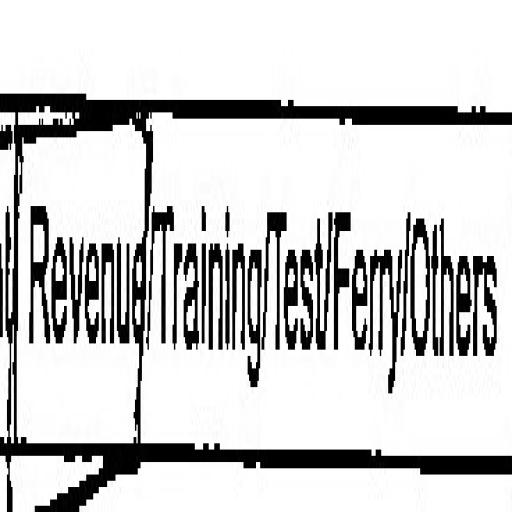check: (5, 0, 149, 512)
